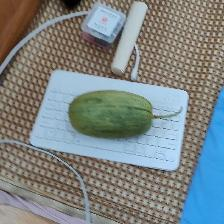gua: (74, 94, 167, 134)
